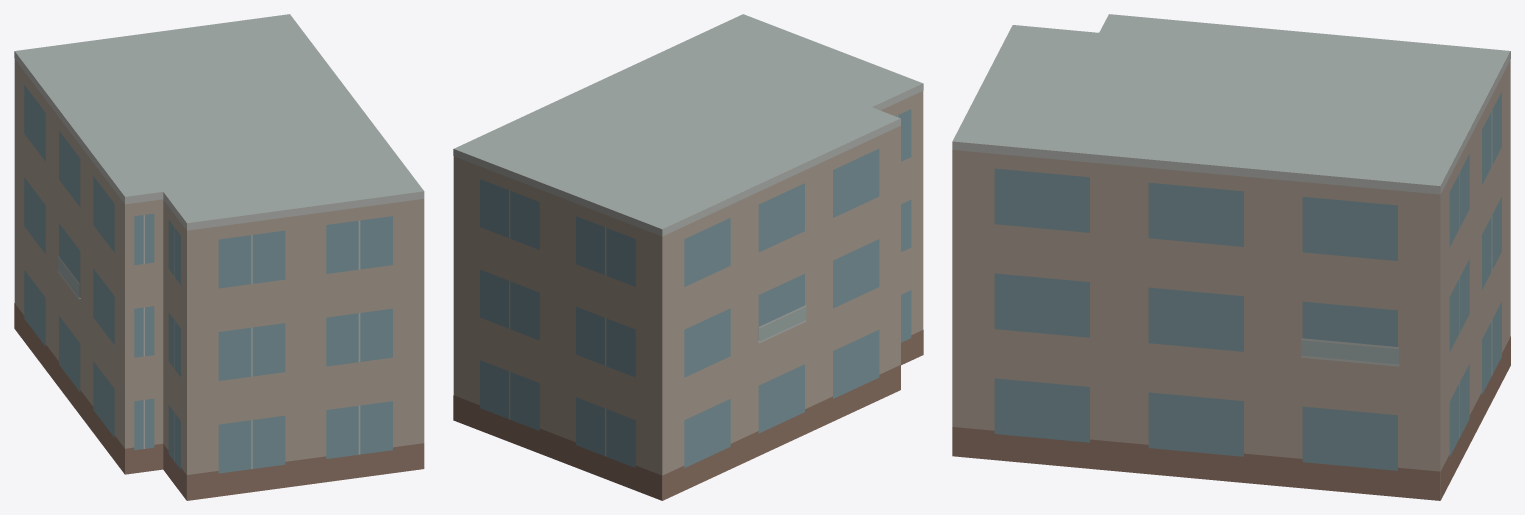
Rendered from survey-upis-32803881.glb.
3 renders of one model, left to right at view 1: azimuth 30°, elevation 25°; view 2: azimuth 150°, elevation 25°; view 3: azimuth 270°, elevation 25°, orthographic. The views are drawn at different scales.
Parts seen in each view (by area): view 1: survey-upis-32803881.tmp; view 2: survey-upis-32803881.tmp; view 3: survey-upis-32803881.tmp.
Part boxes in pixels (x1,y1,x2,y2): survey-upis-32803881.tmp: (14, 14, 424, 500); survey-upis-32803881.tmp: (453, 14, 923, 500); survey-upis-32803881.tmp: (952, 14, 1510, 500).
Bounding box in the file's own units: 10.74 × 9.15 × 14.72.
